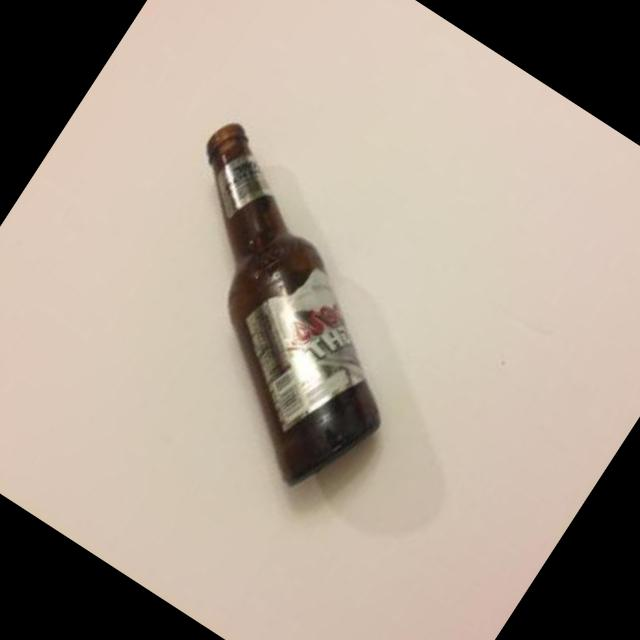BotolKaca: (70, 113, 477, 513)
